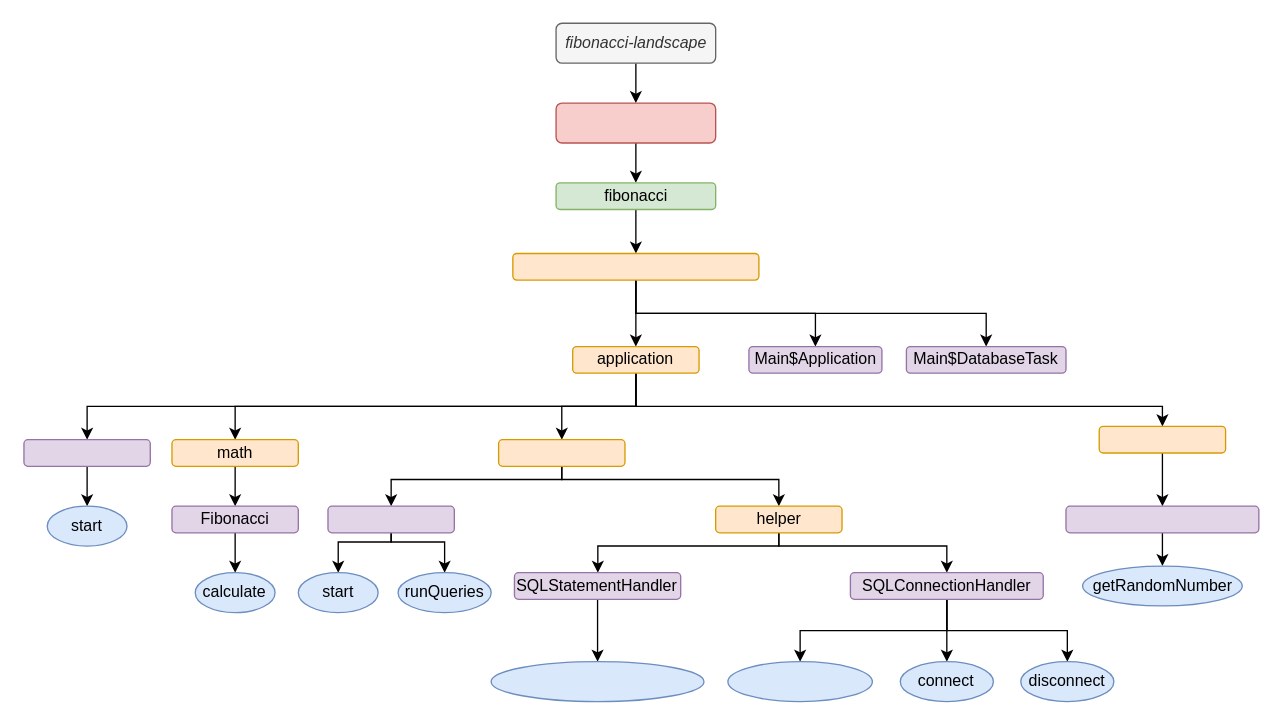
The diagram is 1282 pixels wide and 725 high, and some of its shapes have lost their labels. The shapes that lost their labels are listed below. From the top down, each one's box as (x1, y1, x2, y2) in pixels, then its label:
(555, 102, 716, 143): host 192.168.178.1
(512, 252, 759, 280): net.explorviz.sampleApplication
(23, 438, 150, 466): JavaExample
(497, 438, 625, 466): database
(1098, 425, 1226, 453): util
(327, 505, 454, 533): JBDCExample
(1065, 505, 1259, 533): RandomNumberGenerator
(490, 660, 704, 702): executeStatementHandler
(727, 660, 872, 702): createDatabase
